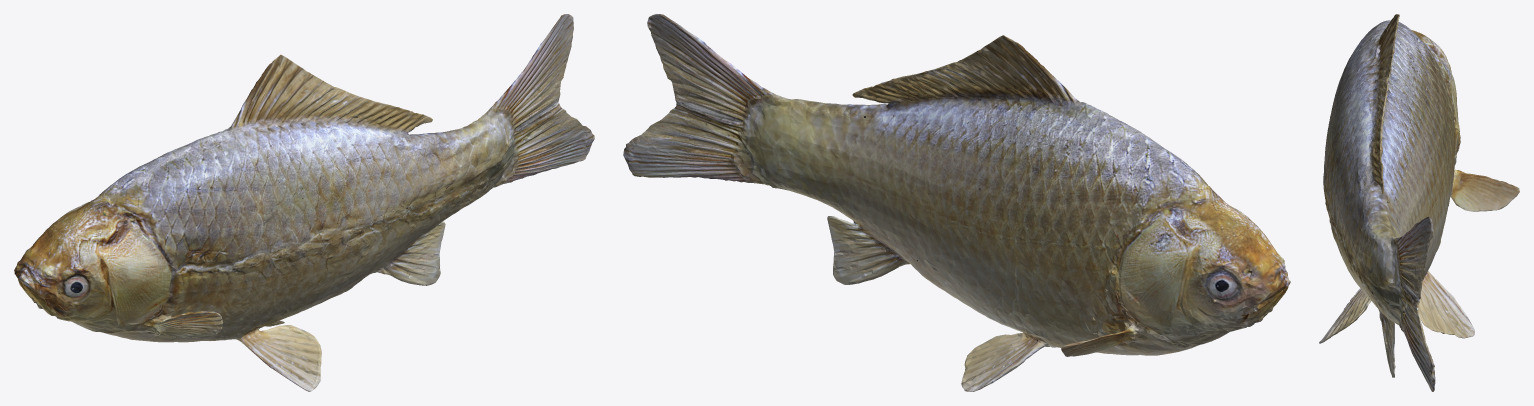
File: Crucian carp.glb
The picture shows the model from 3 angles, left to right: view 1: azimuth 30°, elevation 25°; view 2: azimuth 150°, elevation 25°; view 3: azimuth 270°, elevation 25°; orthographic projection. The views are drawn at different scales.
Parts seen in each view (by area): view 1: Group46955; view 2: Group46955; view 3: Group46955.
Part boxes in pixels (x1,y1,x2,y2): Group46955: (14, 14, 594, 391); Group46955: (623, 14, 1290, 391); Group46955: (1319, 14, 1519, 391).
Size of the model in its own units: 0.3225 by 0.1614 by 0.0884.
1 material, 1 textured.
